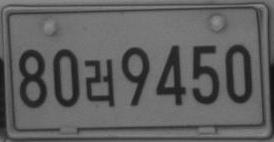0: (224, 43, 252, 104), (52, 48, 80, 108)
4: (155, 44, 186, 106)
5: (192, 44, 220, 105)
8: (18, 48, 47, 108)
9: (120, 46, 150, 107)
러: (84, 58, 115, 107)
